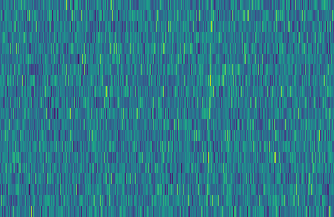signal: (203, 0, 217, 217)
